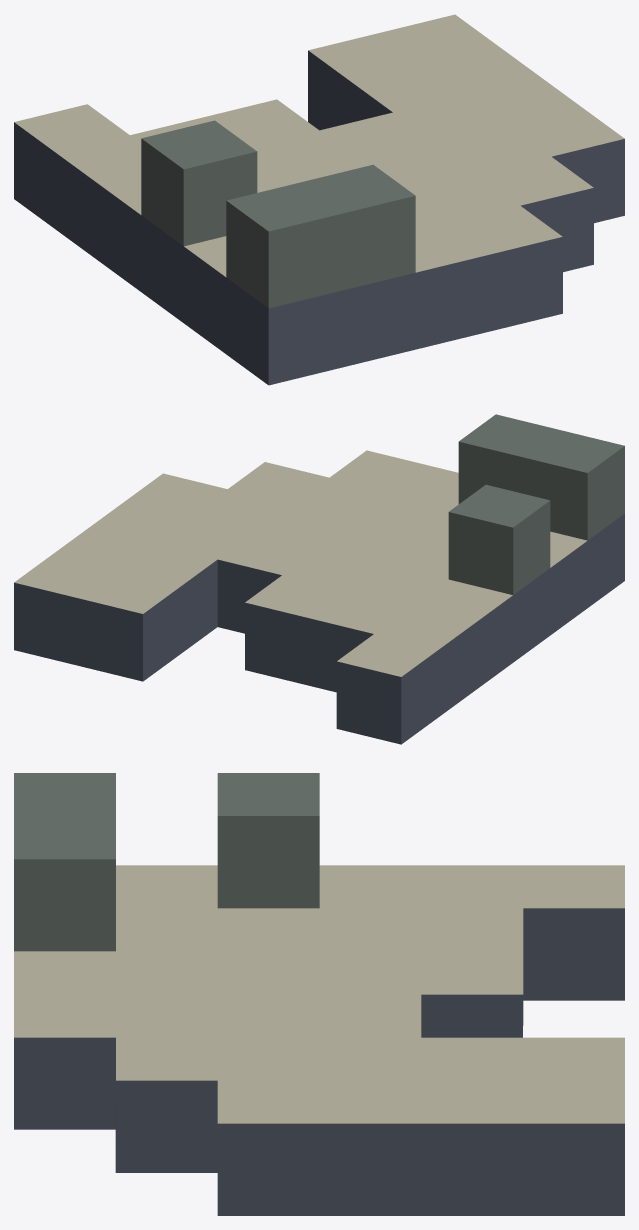
3 views of the same model, one above another, from view 1: azimuth 30°, elevation 25°; view 2: azimuth 150°, elevation 25°; view 3: azimuth 270°, elevation 25° (orthographic). The views are drawn at different scales.
Visible parts, largest first — view 1: 6.3; view 2: 6.3; view 3: 6.3.
Boxes of the visible parts, bbox=[...] form: 6.3: bbox=[14, 14, 624, 385]; 6.3: bbox=[14, 414, 624, 744]; 6.3: bbox=[14, 773, 624, 1215].
Bounding box in the file's own units: 600 × 200 × 600.
